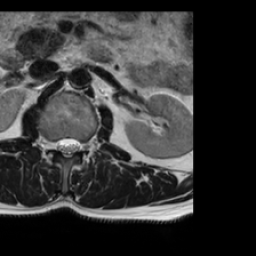CCS_normal: (62, 130, 70, 162)
LFS_normal: (78, 133, 88, 156)
LLS_normal: (70, 132, 78, 157)
RFS_normal: (46, 132, 54, 154)
RLS_normal: (54, 131, 62, 156)
